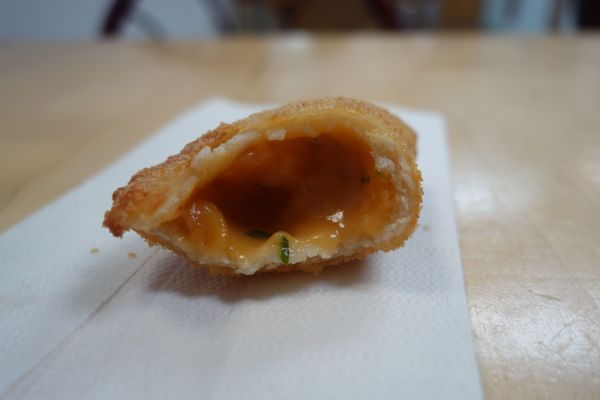curry: (8, 20, 598, 395)
salad: (102, 96, 425, 276)
